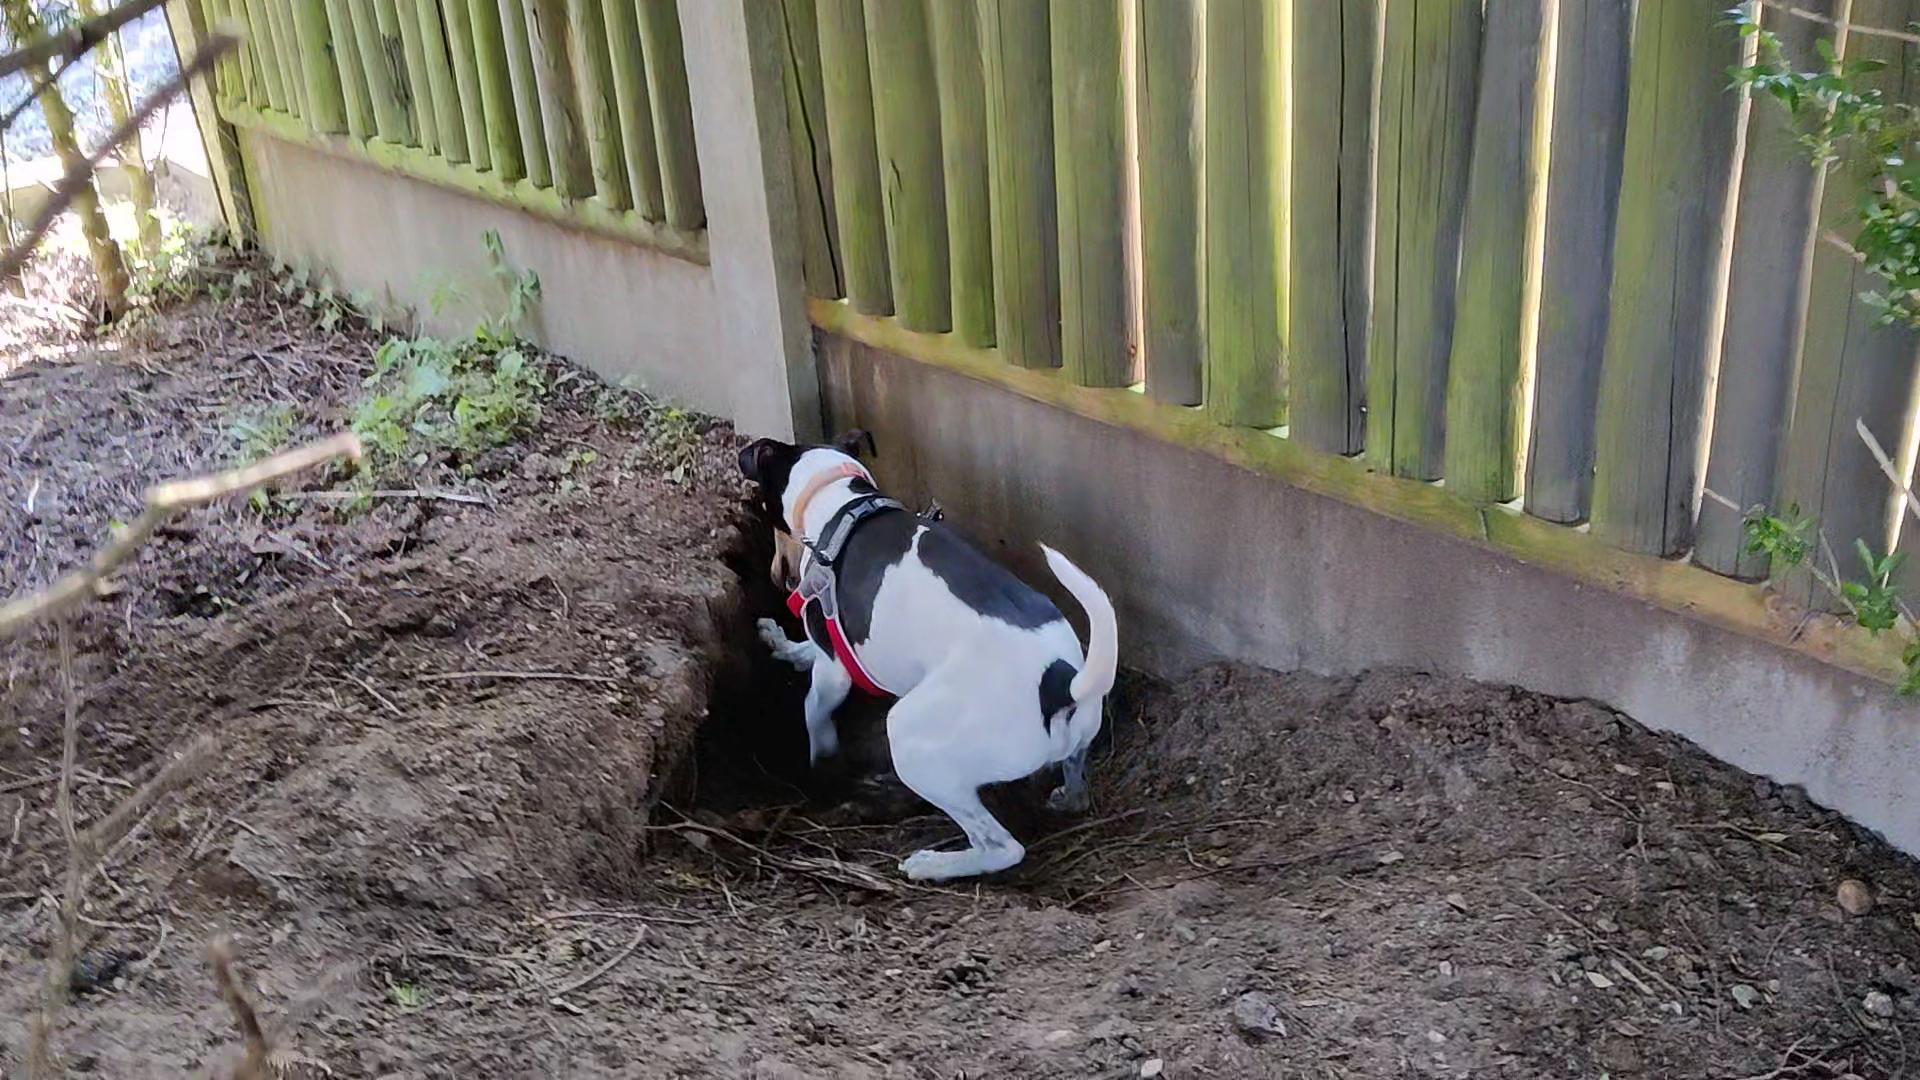Dog: (702, 386, 1160, 894)
